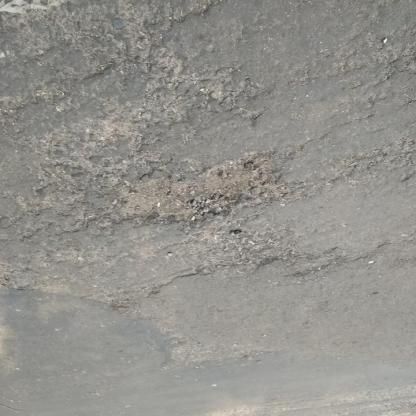pothole: (114, 150, 282, 229), (199, 230, 281, 277)
